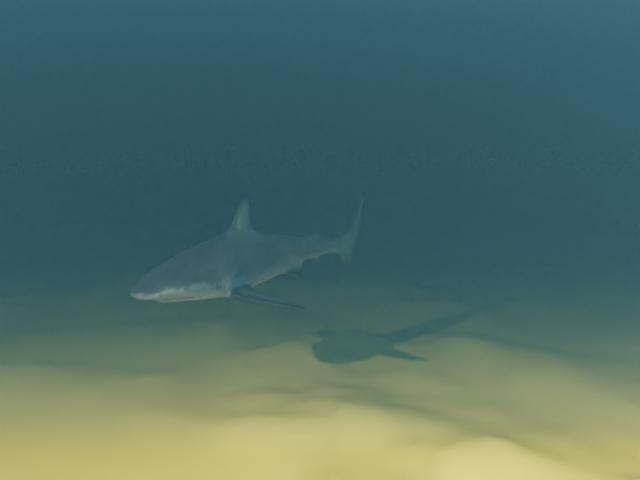Carribean Shark.001: (130, 190, 363, 309)
